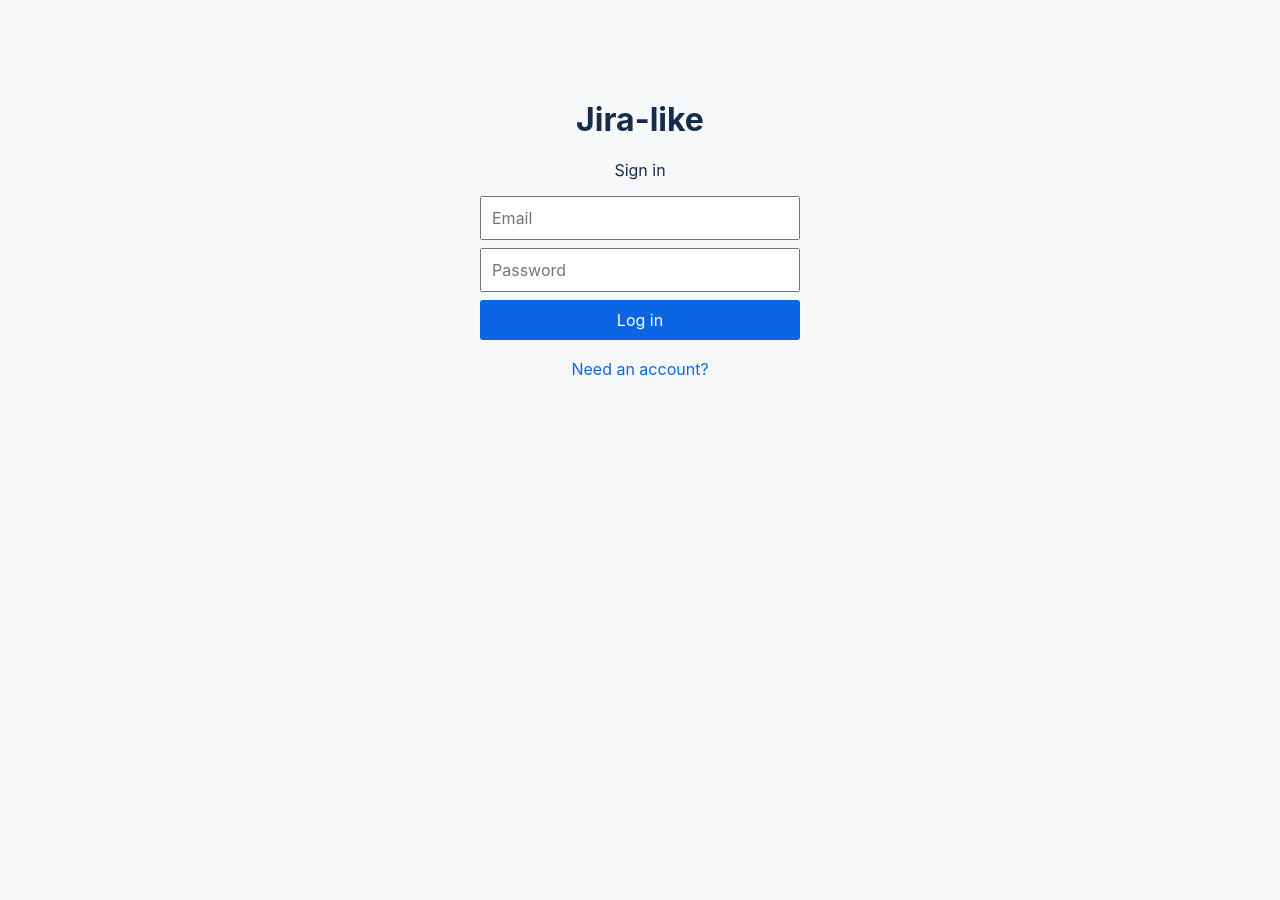
Scenario: App › authenticates after login and loads workspace data
Type "dev@example.com" into the field with placeholder "Email" at (640, 218), box [480,196,800,240]
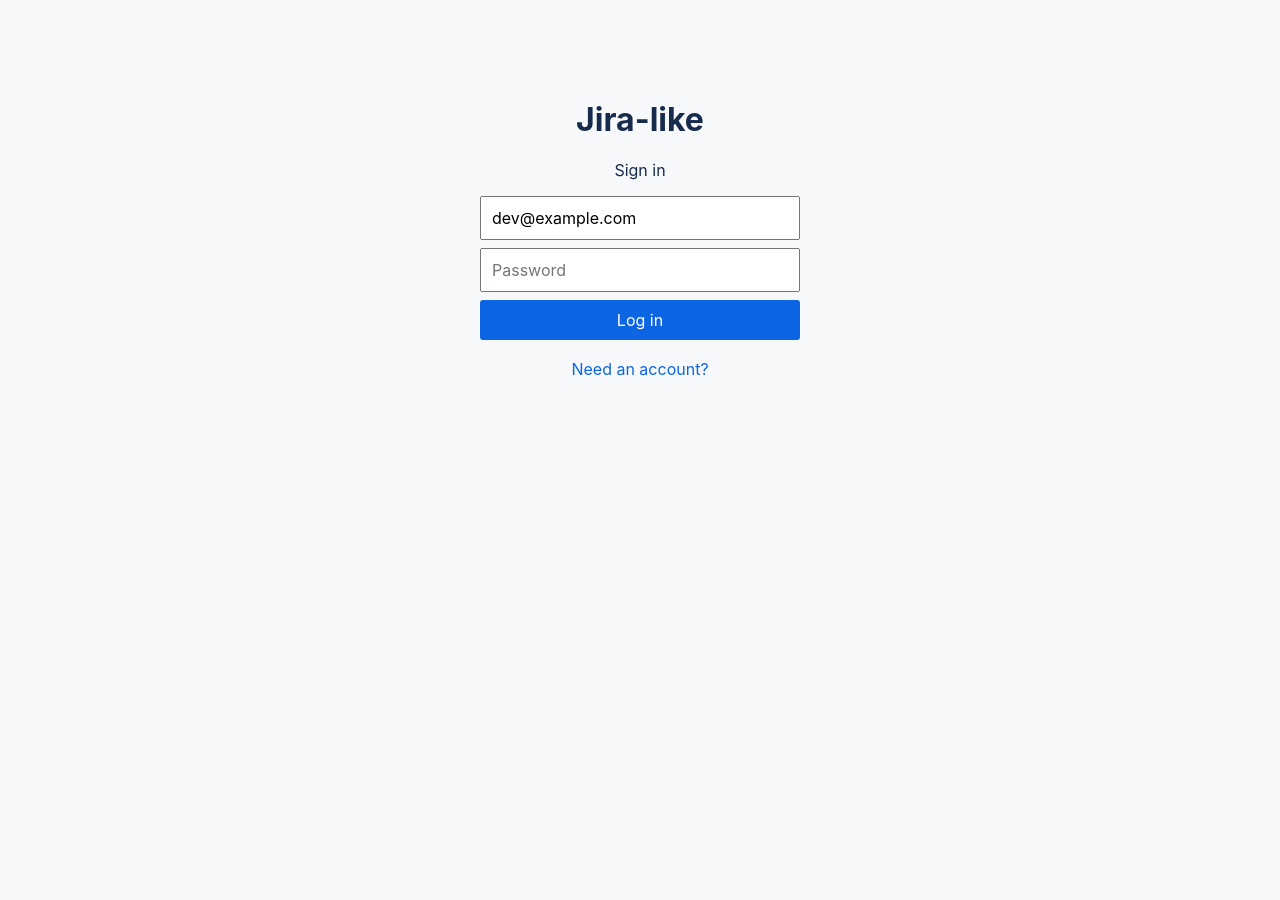
Type "secret123" into the password field with placeholder "Password" at (640, 270), box [480,248,800,292]
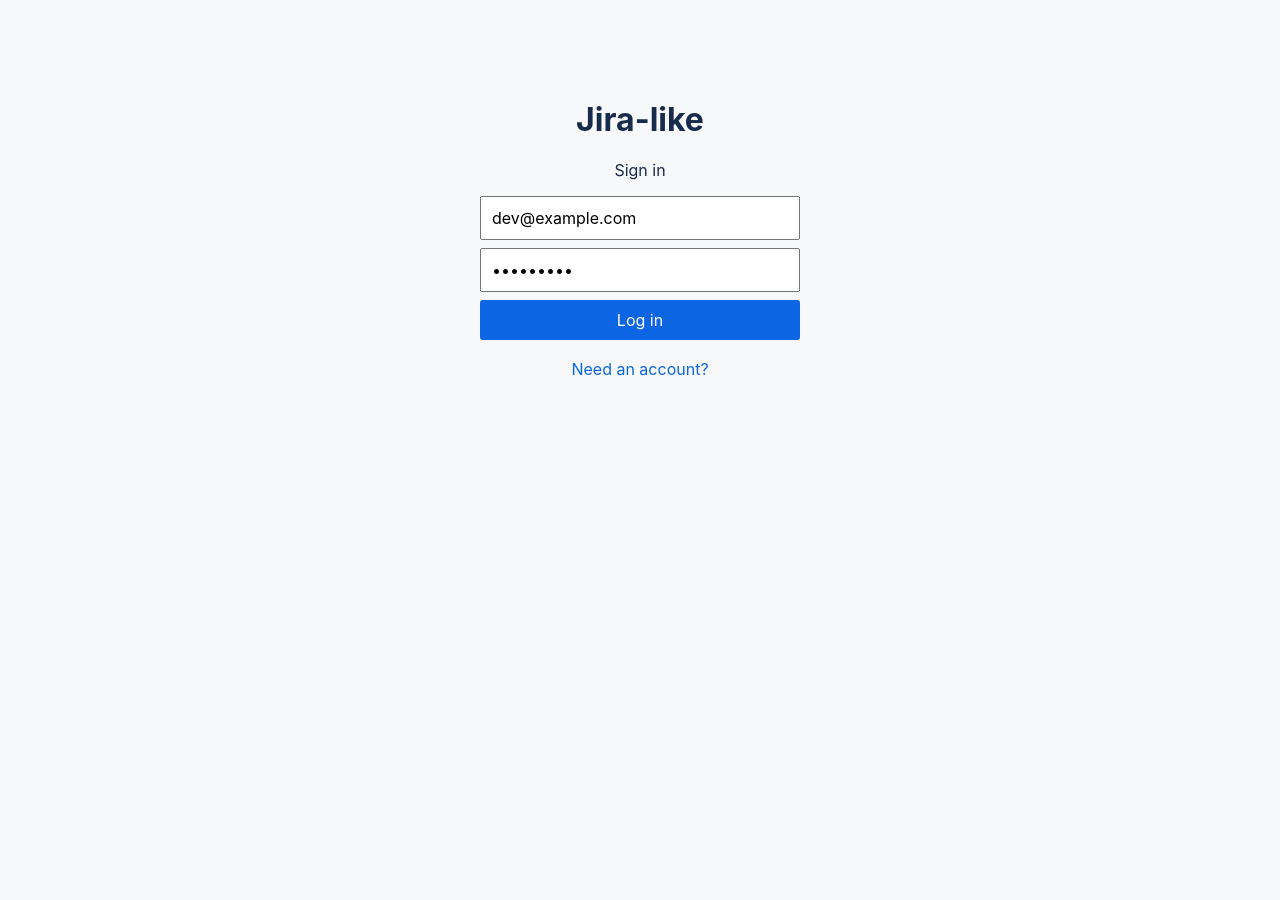
Click the button "Log in" at (640, 320), box [480,300,800,340]
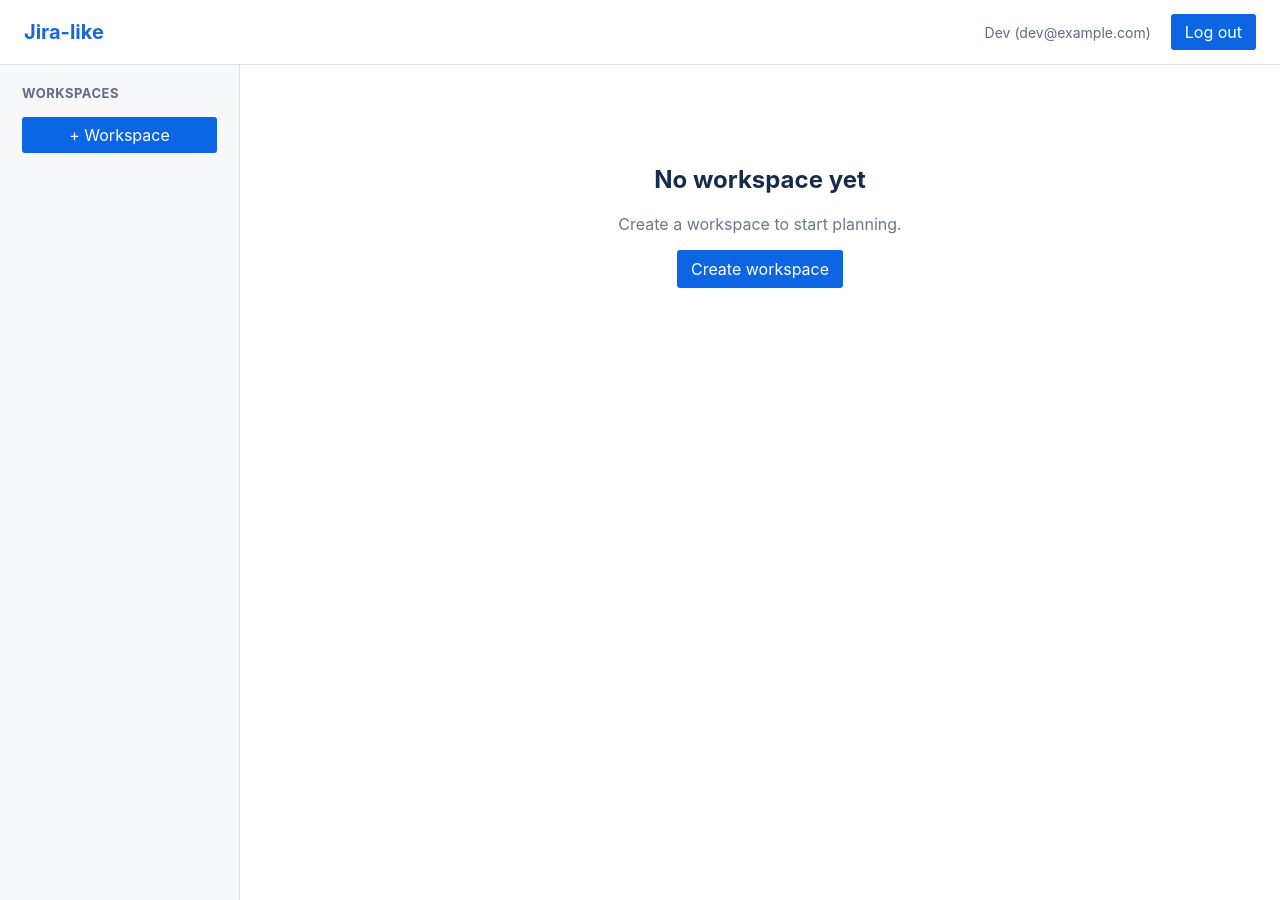
Expected: the heading "No workspace yet" is shown, [654,165,866,194]
